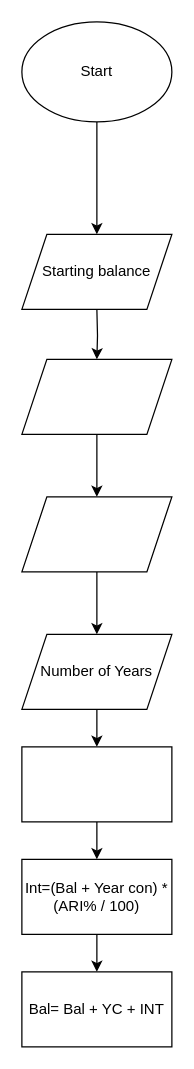
Image size: 194x1069. Some labels were removed from this diagram. The shapes that lost their labels are listed below. From the top down, each one's centre as x and y in pixels, then its label:
(96,396): Year con
(96,534): ARI%
(96,784): Copy Start balance to balance
